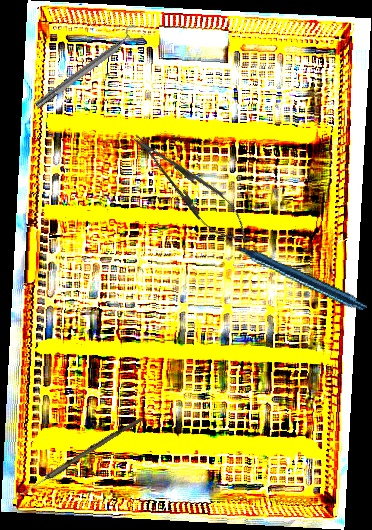Fixation Ring: (30, 22, 145, 114)
Handpiece: (221, 189, 368, 352)
Needle Holder: (122, 122, 261, 255)
Surgical Spoon: (12, 414, 143, 503)
